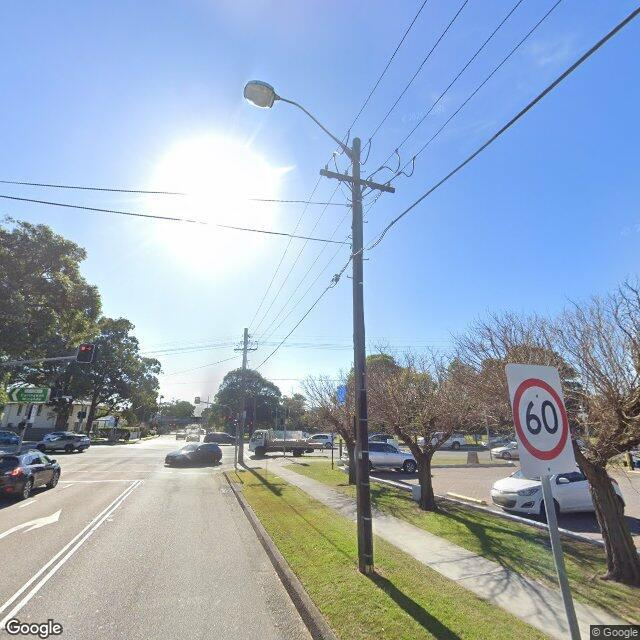crossarm: (318, 168, 394, 194), (233, 348, 259, 352)
streetlight: (244, 80, 353, 158)
timber-pole: (353, 138, 375, 574), (237, 328, 249, 463)
traffic-light: (76, 344, 96, 363), (194, 396, 200, 404)
